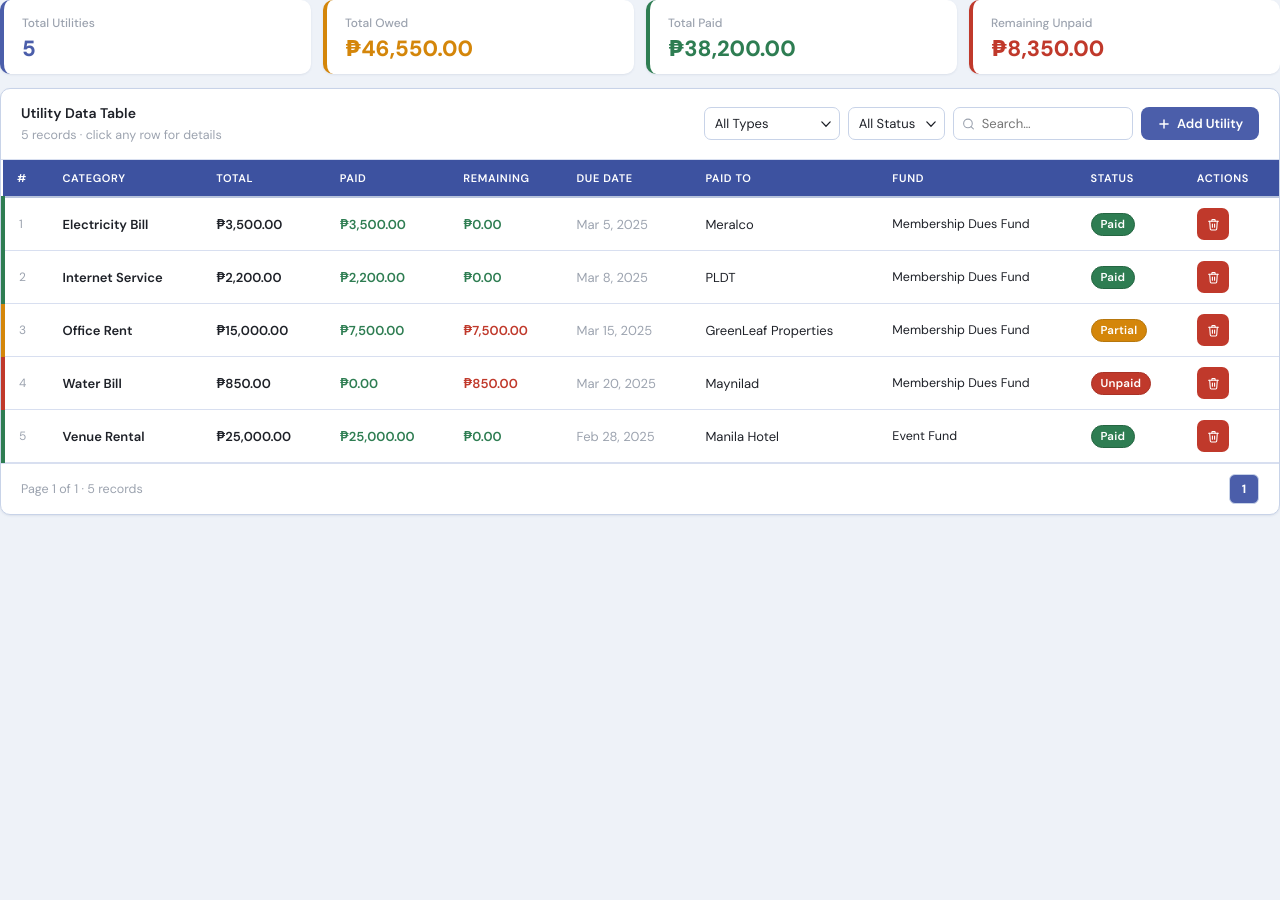
Test: edit/save flows › Utilities: editing total amount converts to a number and updates the detail
Step 1. Click the text "Electricity Bill" → (125, 224), box [48, 197, 202, 251]
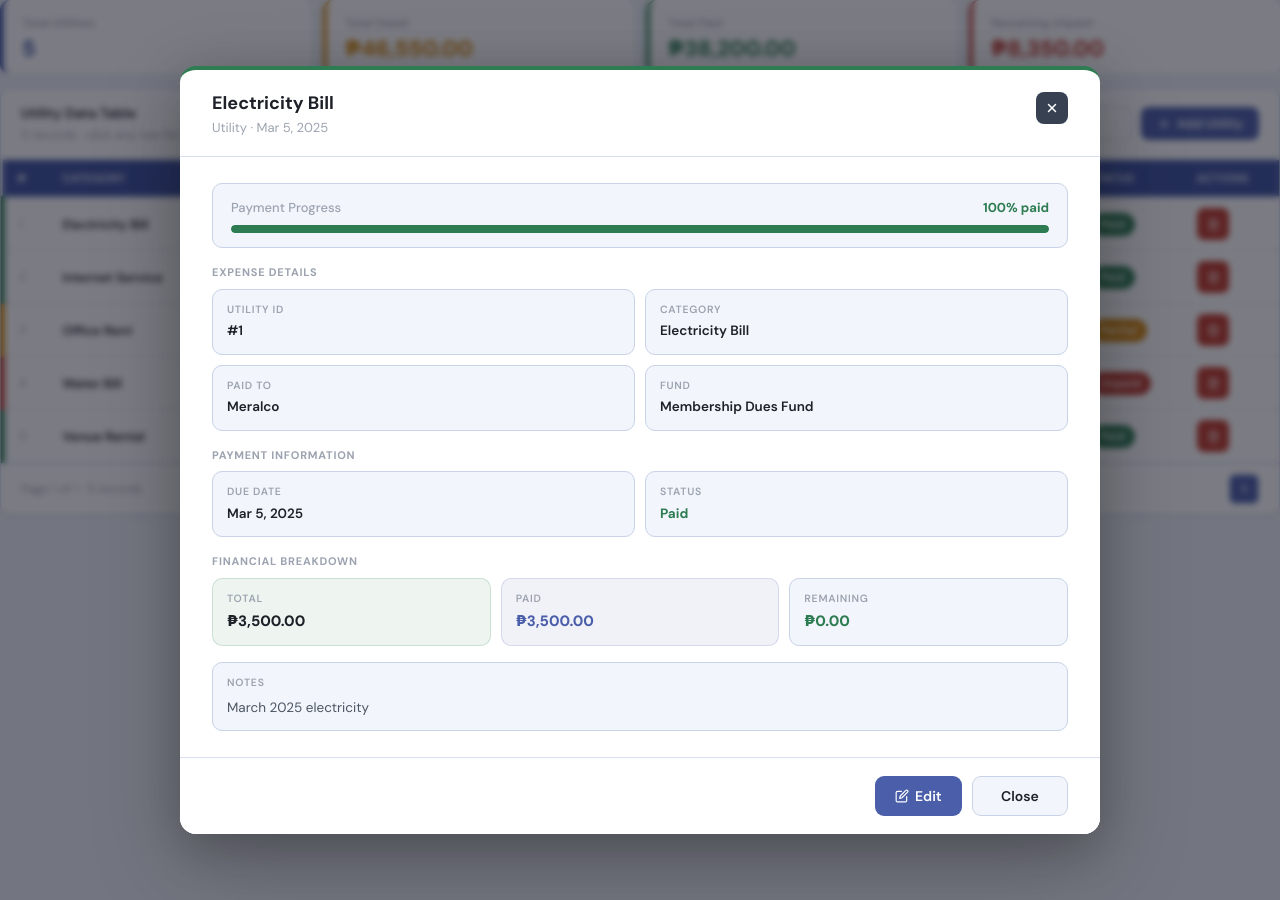
Step 2. Click the button "Edit" → (919, 796), box [875, 776, 962, 816]
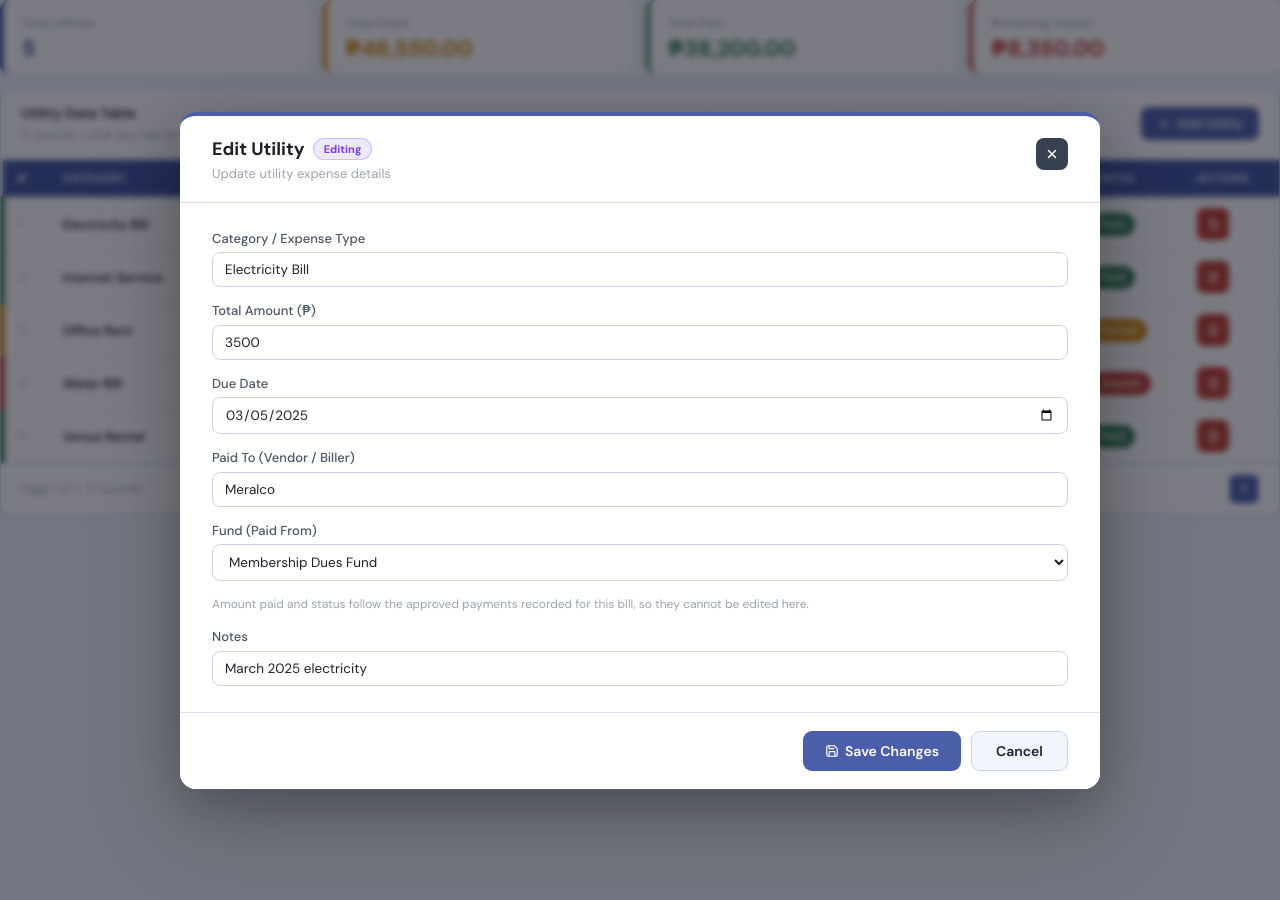
Step 3. Replace the text in the number field with "4000" → (640, 342), box [212, 324, 1068, 360]
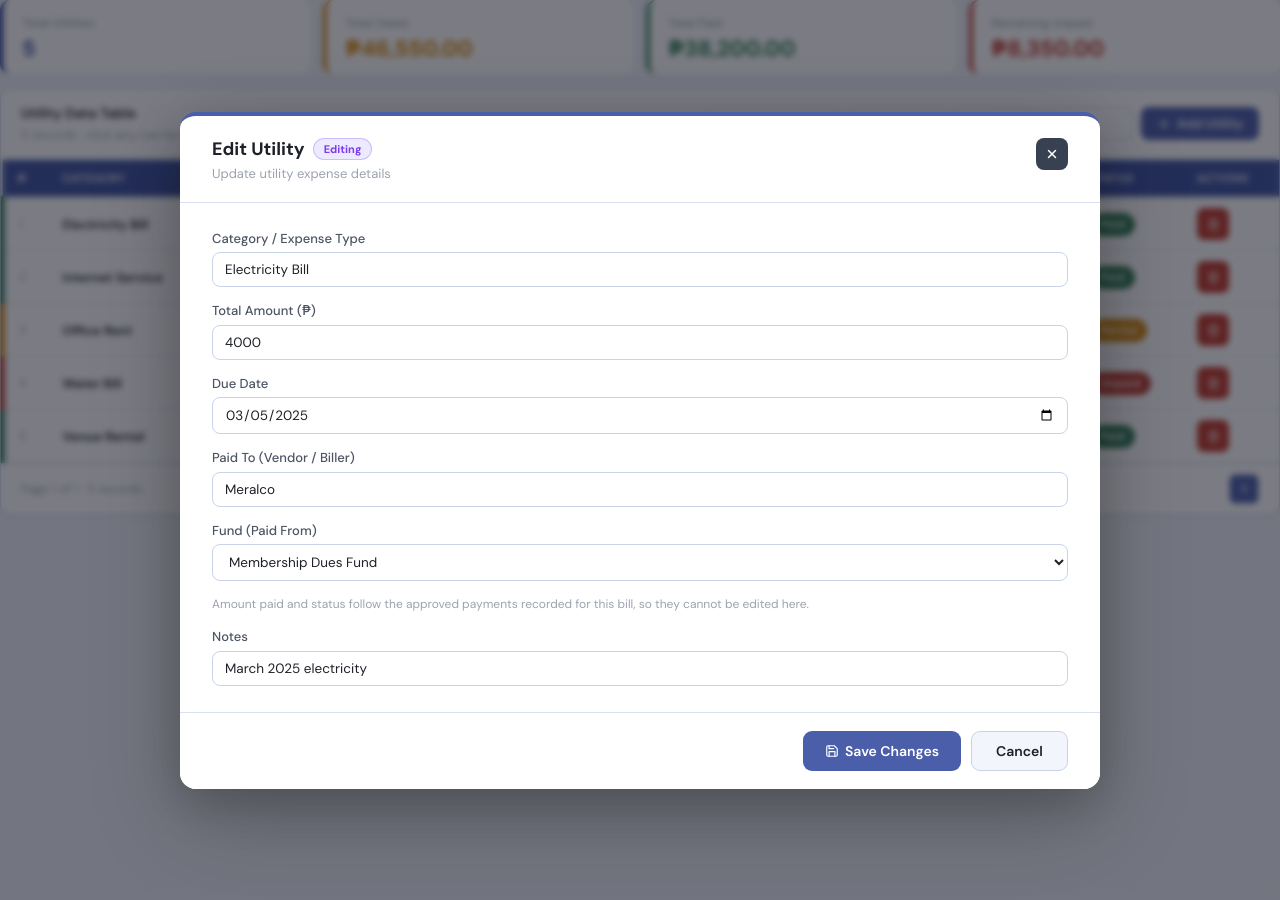
Step 4. Click the button "Save Changes" → (882, 750), box [803, 730, 961, 770]
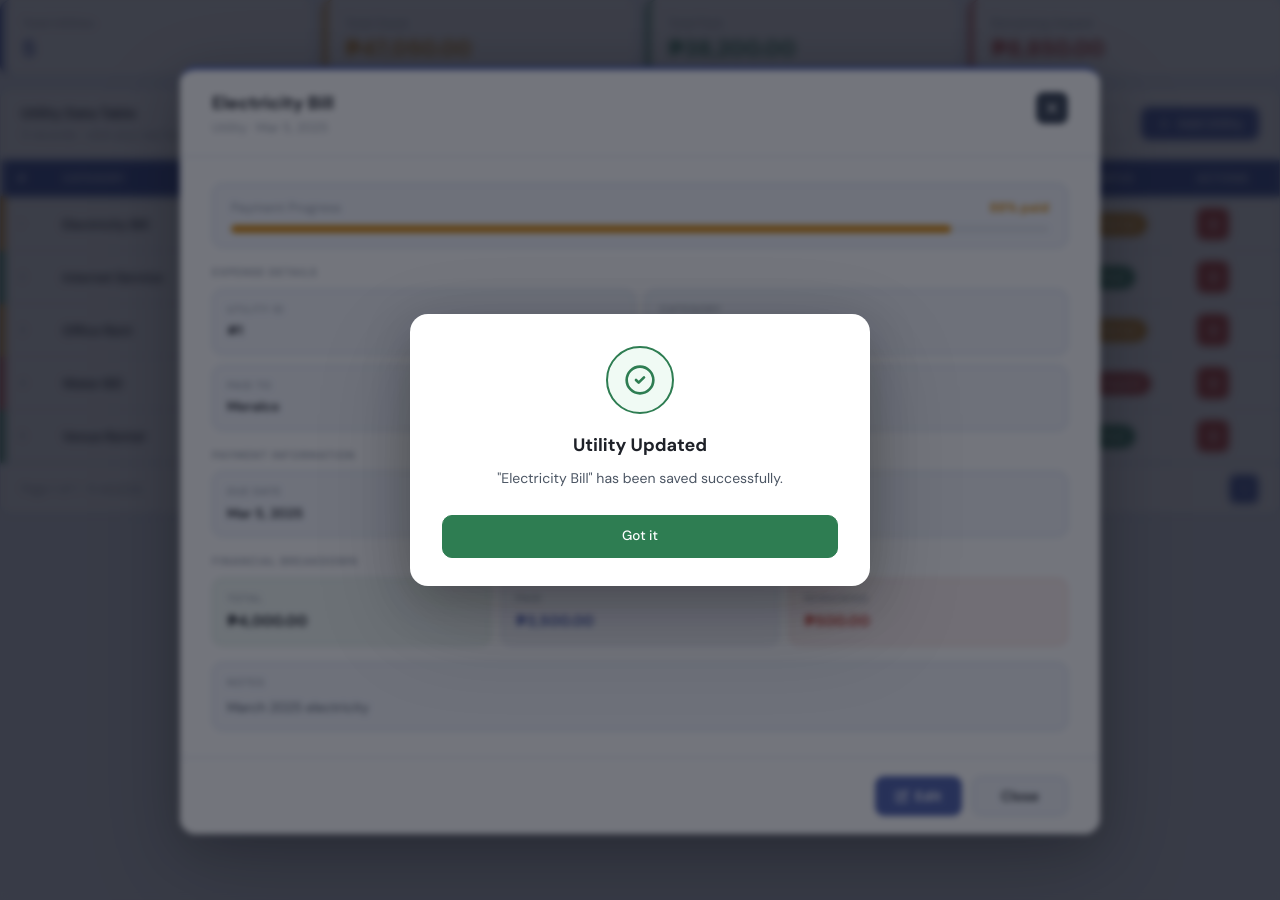
Check: the text "\"Electricity Bill\" has been saved successfully." is shown, box [497, 469, 783, 487]
Check: the text "4,000.00" is shown, box [216, 216, 284, 232]
